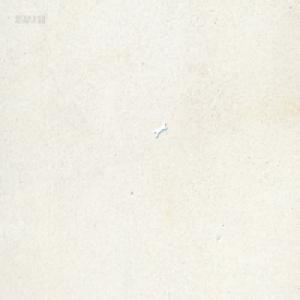Wrench: (153, 122, 167, 137)
